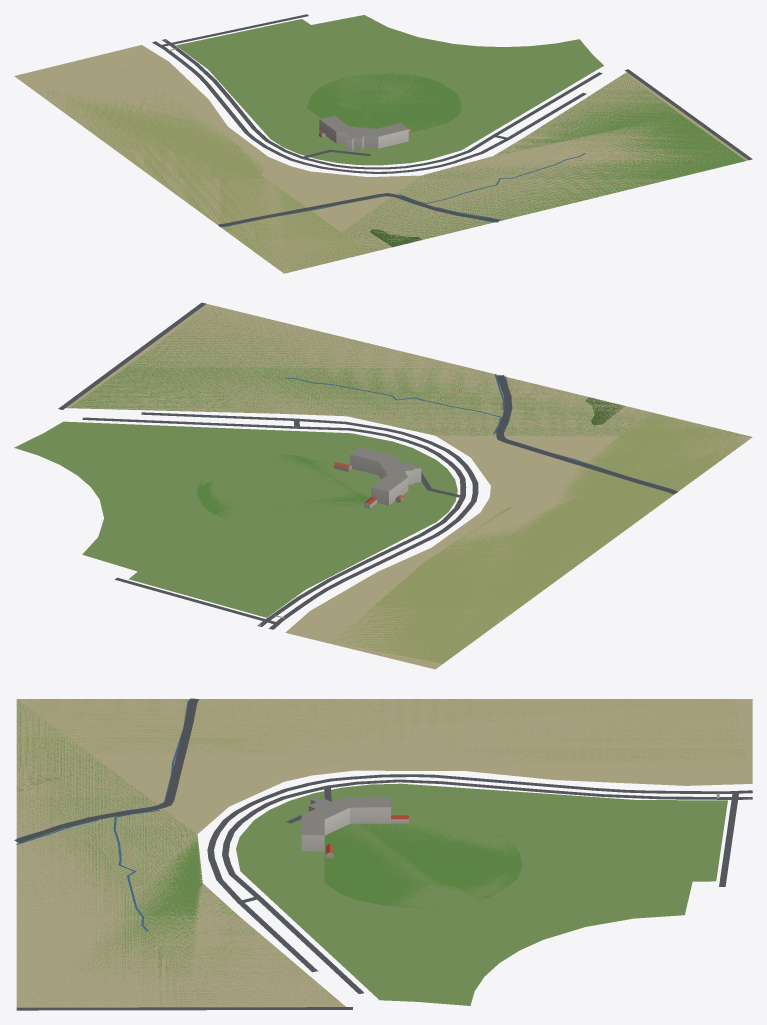
3 views of the same model, one above another, from view 1: azimuth 30°, elevation 25°; view 2: azimuth 150°, elevation 25°; view 3: azimuth 270°, elevation 25° (orthographic). The views are drawn at different scales.
Visible parts, largest first — view 1: landuse, roads, buildings_walls, buildings_roofs, water; view 2: landuse, roads, buildings_walls, buildings_roofs, water; view 3: landuse, roads, buildings_walls, buildings_roofs, water.
Boxes of the visible parts, x1,y1,x2,y2 form: landuse: [14, 15, 748, 273]; roads: [152, 14, 752, 226]; buildings_walls: [319, 119, 410, 151]; buildings_roofs: [319, 115, 410, 139]; water: [222, 153, 585, 226]; landuse: [14, 304, 752, 669]; roads: [58, 302, 677, 629]; buildings_walls: [333, 454, 421, 508]; buildings_roofs: [334, 447, 420, 504]; water: [285, 374, 675, 490]; landuse: [16, 699, 752, 1007]; roads: [14, 698, 752, 1010]; buildings_walls: [301, 800, 408, 858]; buildings_roofs: [301, 797, 408, 853]; water: [16, 700, 189, 931].
Size of the model in its own units: 502 by 12.2 by 502.
